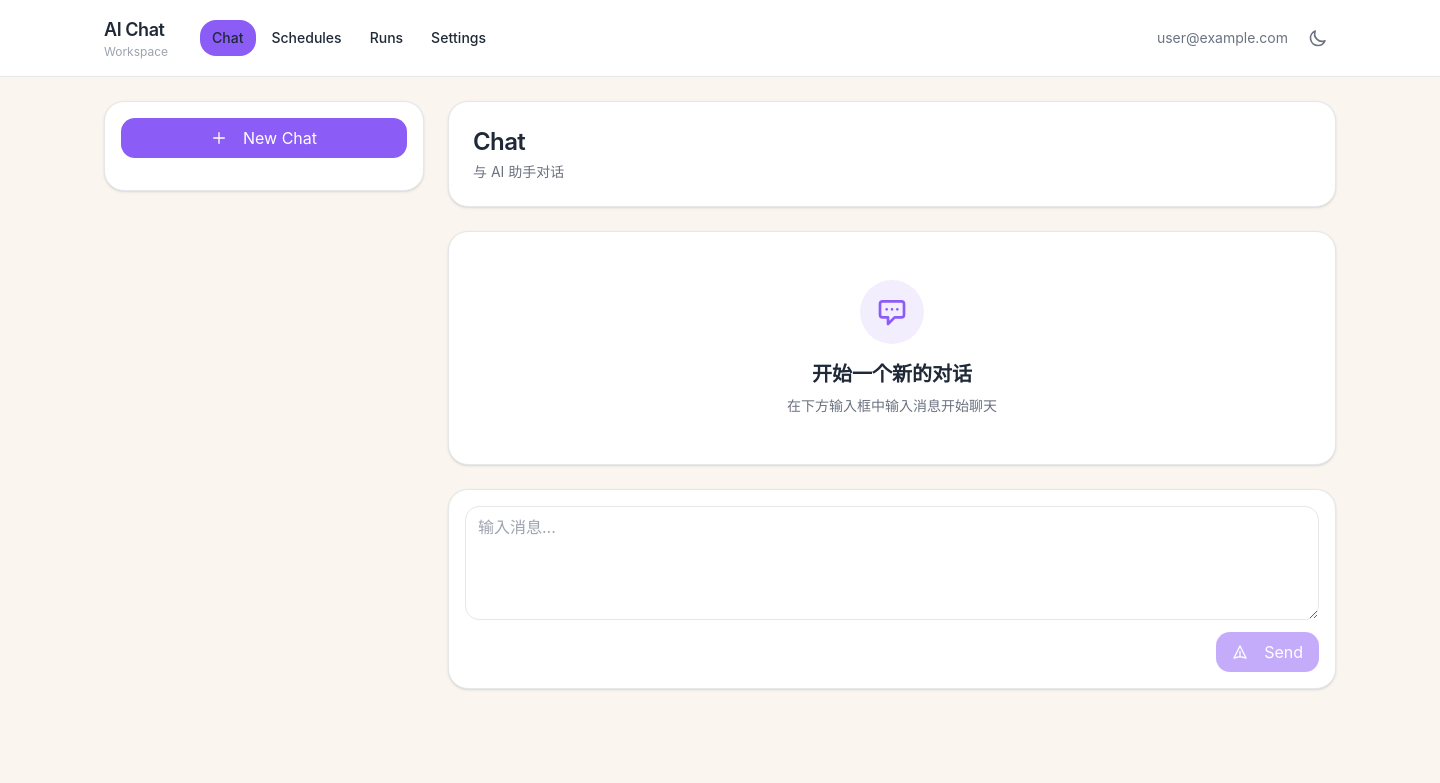
Test: ChatPage › renders tool invocation parts from projected chat messages
Expected: the heading "开始一个新的对话" is shown, [812,360,972,388]
Step 1. Type "Create a schedule" into the text box → [892, 563], box [465,506,1319,620]
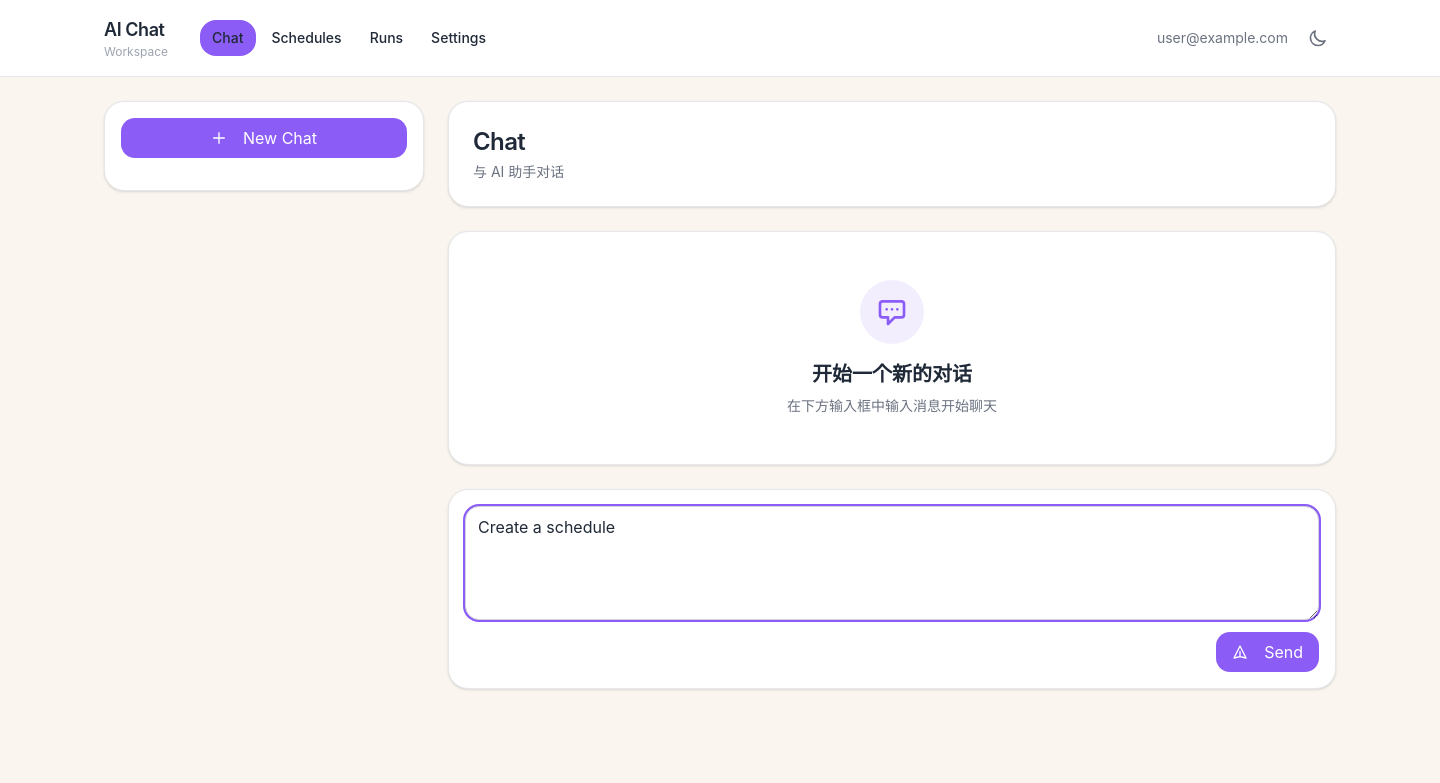
Step 2. Click the button "Send" → [1268, 652], box [1216,632,1319,672]
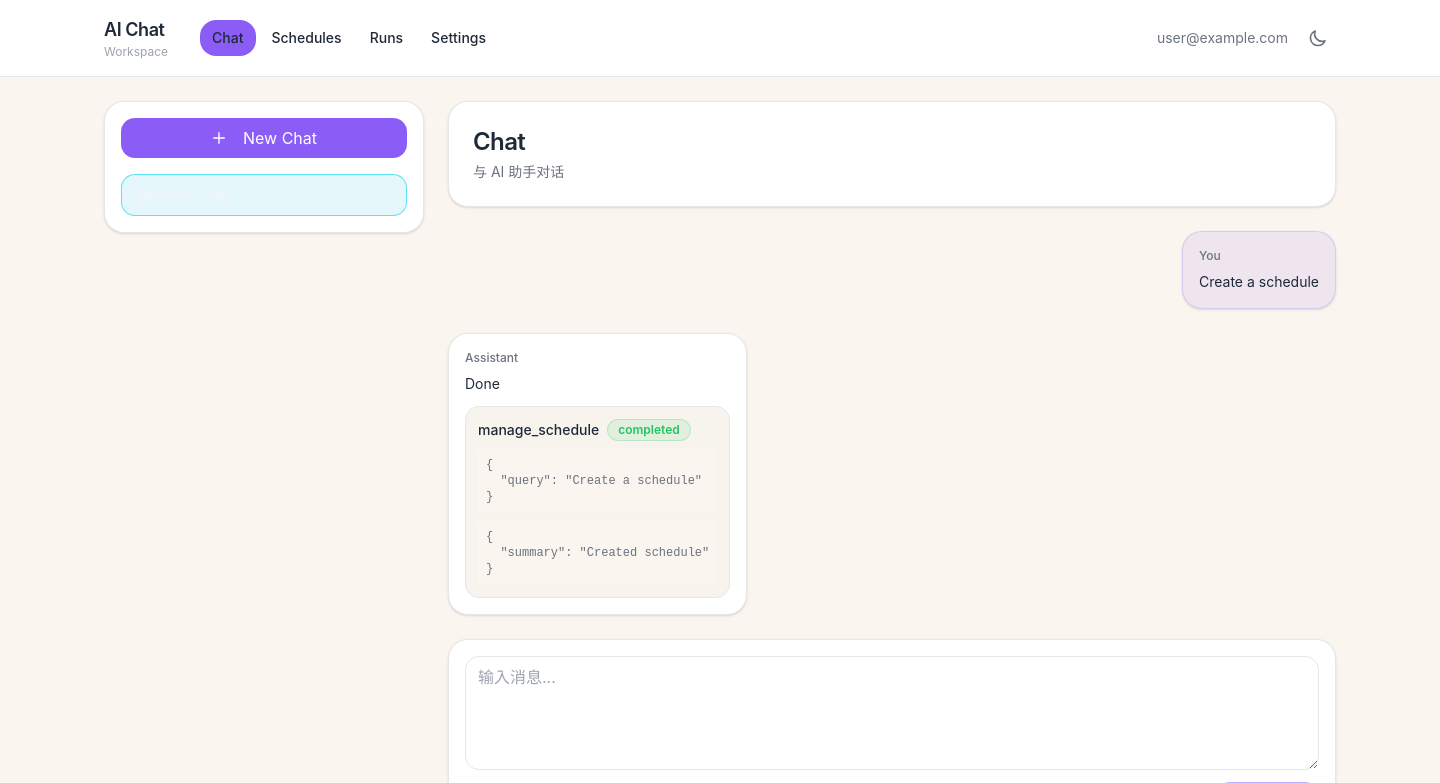
Now the text "manage_schedule" is shown, box [478,420,599,440]
Now the text "completed" is shown, box [607,419,691,441]
Now the text "{ \"summary\": \"Created schedule\" }" is shown, box [478,521,717,585]
